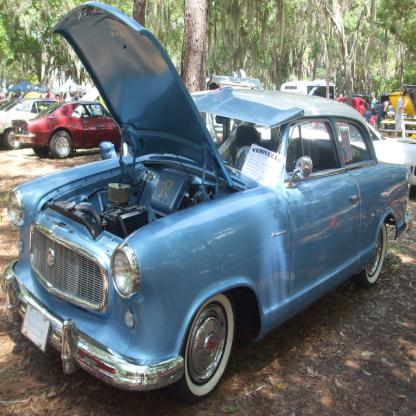Car: (0, 3, 416, 408)
